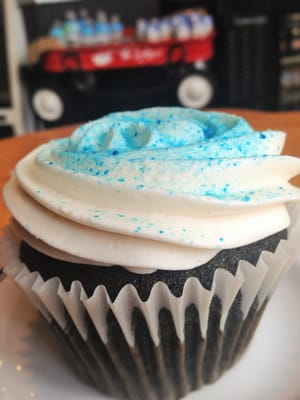sushi: (0, 102, 300, 399), (7, 106, 297, 254)
